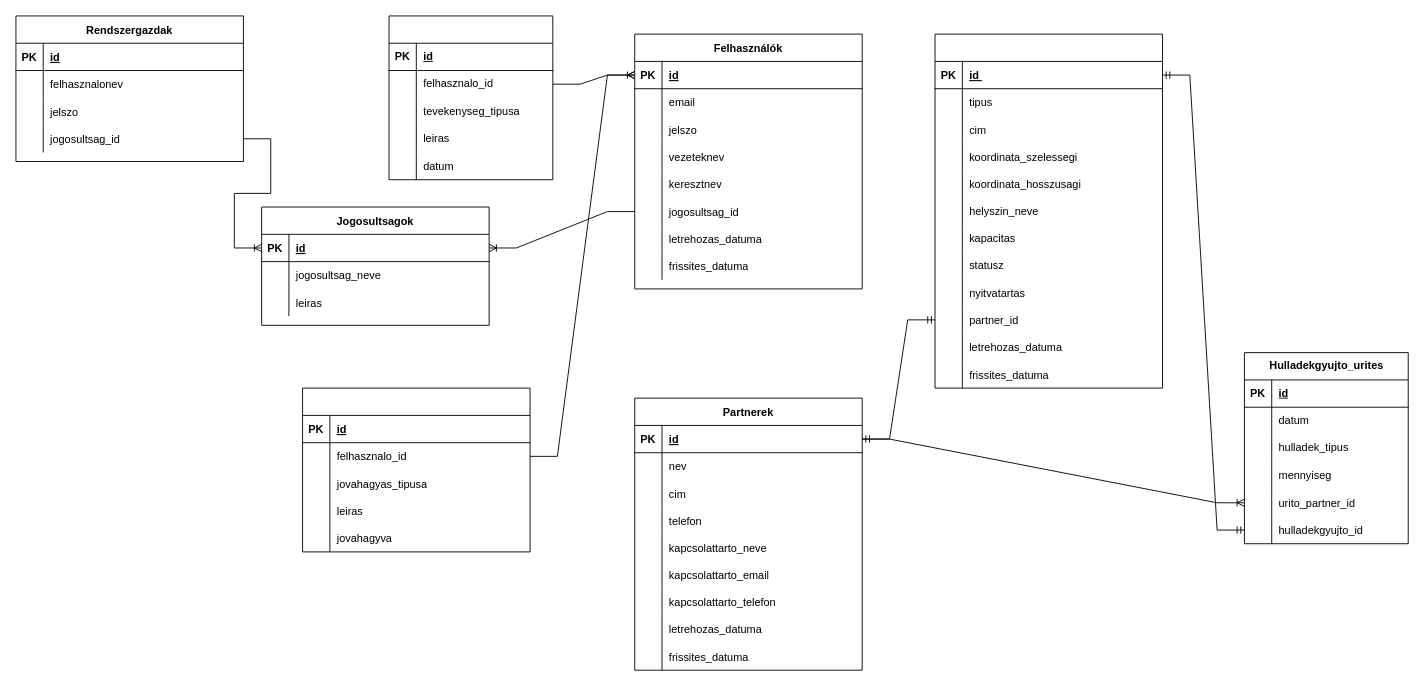
Some shapes in this 1424 by 686 pixel diagram are drawn without their labels. Each missing label, with the box of its shape:
Admin_jovahagyasok: (302, 387, 530, 552)
Felhasznaloi_tevekenyseg: (388, 15, 553, 180)
Hulladekgyujtok: (934, 33, 1163, 388)
